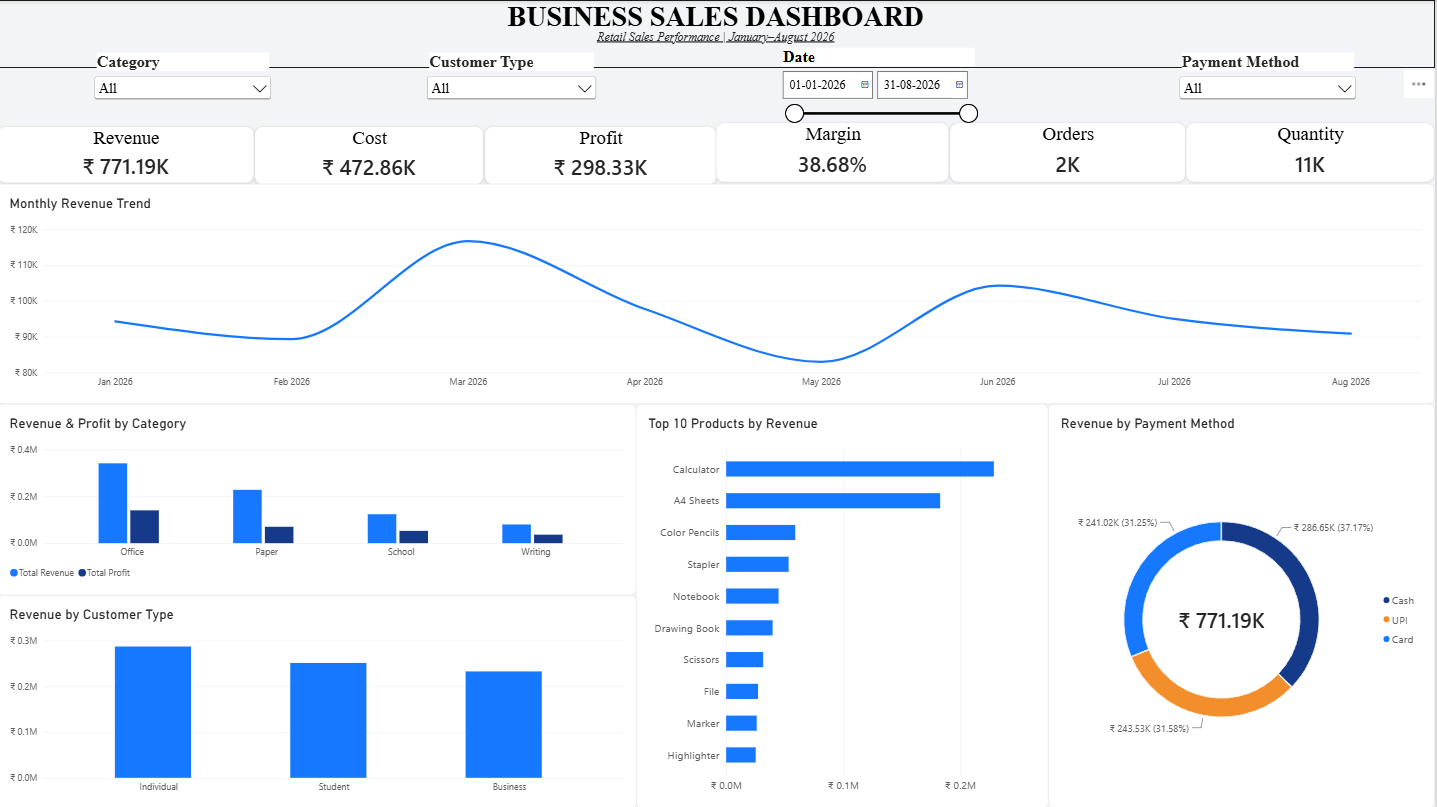

This screenshot's page, from the dashboard's own definition file:
{"tool":"powerbi","page":{"name":"Page 1","canvas":[1920,1080],"ordinal":0},"visuals":[{"type":"cardVisual","title":"Revenue","fields":{"Data":["sales_data.Total Revenue"]},"box":[0,168,344,76],"z":0},{"type":"cardVisual","title":"Cost","fields":{"Data":["sales_data.Total Cost"]},"box":[344,168,306,78],"z":1000},{"type":"cardVisual","title":"Profit","fields":{"Data":["sales_data.Total Profit"]},"box":[652,168,310,78],"z":2000},{"type":"cardVisual","title":"Margin","fields":{"Data":["sales_data.Profit Margin"]},"box":[960,164,312,80],"z":3000},{"type":"cardVisual","title":"Orders","fields":{"Data":["sales_data.Total Orders"]},"box":[1272,164,316,80],"z":4000},{"type":"cardVisual","title":"Quantity","fields":{"Data":["sales_data.Total Quantity"]},"box":[1588,164,332,80],"z":5000},{"type":"lineChart","title":"Monthly Revenue Trend","fields":{"Category":["sales_data.Month Year"],"Y":["sales_data.Total Revenue"]},"box":[0,246,1920,294],"z":6000},{"type":"clusteredColumnChart","title":"Revenue & Profit by Category","fields":{"Category":["sales_data.Category"],"Y":["sales_data.Total Revenue","sales_data.Total Profit"]},"box":[0,540,854,256],"z":7000},{"type":"clusteredBarChart","title":"Top 10 Products by Revenue","fields":{"Category":["sales_data.Product"],"Y":["sales_data.Total Revenue"]},"box":[854,540,550,398],"z":8000},{"type":"clusteredColumnChart","title":"Revenue by Customer Type","fields":{"Category":["sales_data.Customer_Type"],"Y":["sales_data.Total Revenue"]},"box":[0,794,854,286],"z":9000},{"type":"donutChart","title":"Revenue by Payment Method","fields":{"Category":["sales_data.Payment_Method"],"Y":["sales_data.Total Revenue"]},"box":[1404,540,516,398],"z":10000},{"type":"textbox","box":[0,0,1920,92],"z":11000},{"type":"slicer","fields":{"Values":["sales_data.Category"]},"box":[126,70,246,94],"z":12000},{"type":"slicer","fields":{"Values":["sales_data.Customer_Type"]},"box":[570,70,236,98],"z":13000},{"type":"slicer","fields":{"Values":["sales_data.Payment_Method"]},"box":[1574,70,246,100],"z":14000},{"type":"slicer","fields":{"Values":["sales_data.Date"]},"box":[1042,64,272,140],"z":15000},{"type":"cardVisual","fields":{"Data":["sales_data.Best Revenue Month","sales_data.Top Revenue Category","sales_data.Top Revenue Product","sales_data.Top Customer Type","sales_data.Top Payment Method"]},"box":[854,986,1066,94],"z":16000},{"type":"textbox","box":[854,938,1066,62],"z":17000}]}

Visuals, with their boxes in screenshot pixels (x1, y1, x2, y2), scaled from the page's 1920x1080 canvas onto the 1437x807 screenshot:
"Revenue" cardVisual: {"x1": 0, "y1": 126, "x2": 257, "y2": 182}
"Cost" cardVisual: {"x1": 257, "y1": 126, "x2": 486, "y2": 184}
"Profit" cardVisual: {"x1": 488, "y1": 126, "x2": 720, "y2": 184}
"Margin" cardVisual: {"x1": 718, "y1": 123, "x2": 952, "y2": 182}
"Orders" cardVisual: {"x1": 952, "y1": 123, "x2": 1189, "y2": 182}
"Quantity" cardVisual: {"x1": 1189, "y1": 123, "x2": 1436, "y2": 182}
"Monthly Revenue Trend" lineChart: {"x1": 0, "y1": 184, "x2": 1436, "y2": 404}
"Revenue & Profit by Category" clusteredColumnChart: {"x1": 0, "y1": 404, "x2": 639, "y2": 595}
"Top 10 Products by Revenue" clusteredBarChart: {"x1": 639, "y1": 404, "x2": 1051, "y2": 701}
"Revenue by Customer Type" clusteredColumnChart: {"x1": 0, "y1": 593, "x2": 639, "y2": 806}
"Revenue by Payment Method" donutChart: {"x1": 1051, "y1": 404, "x2": 1436, "y2": 701}
textbox: {"x1": 0, "y1": 0, "x2": 1436, "y2": 69}
slicer - sales_data.Category: {"x1": 94, "y1": 52, "x2": 278, "y2": 123}
slicer - sales_data.Customer_Type: {"x1": 427, "y1": 52, "x2": 603, "y2": 126}
slicer - sales_data.Payment_Method: {"x1": 1178, "y1": 52, "x2": 1362, "y2": 127}
slicer - sales_data.Date: {"x1": 780, "y1": 48, "x2": 983, "y2": 152}
cardVisual - sales_data.Best Revenue Month x sales_data.Top Revenue Category: {"x1": 639, "y1": 737, "x2": 1436, "y2": 806}
textbox: {"x1": 639, "y1": 701, "x2": 1436, "y2": 747}
